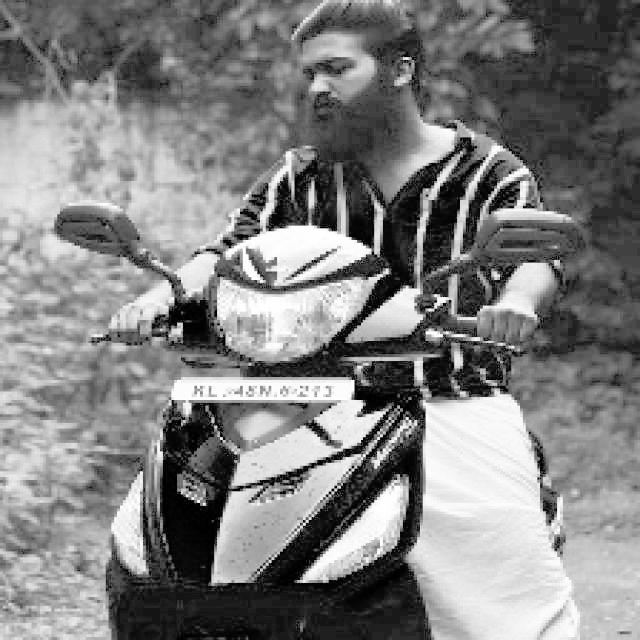Bike: (125, 231, 436, 639)
